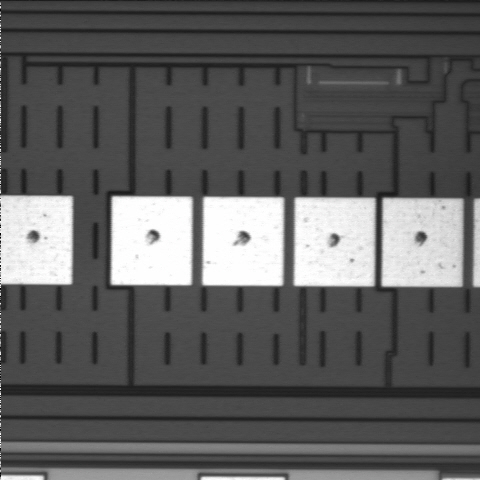pad: (202, 197, 284, 286), (111, 196, 192, 285), (382, 198, 463, 287), (294, 198, 375, 286)
